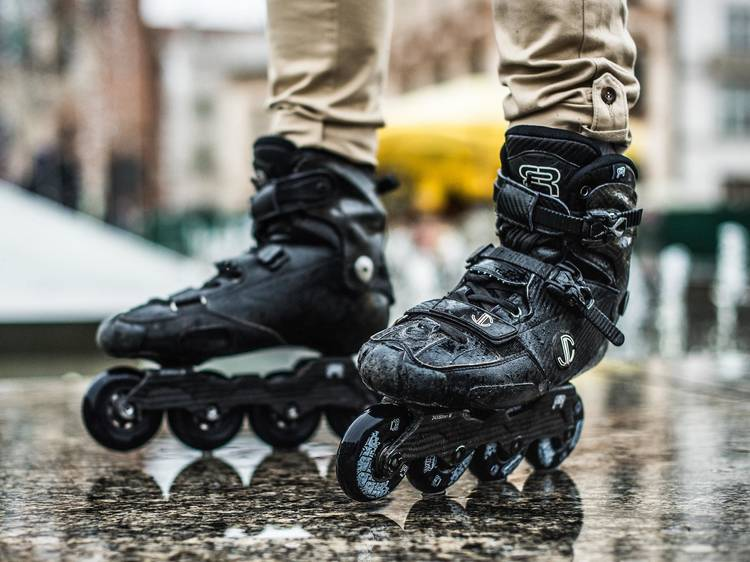roller_blade: (82, 137, 376, 444), (383, 135, 632, 489)
